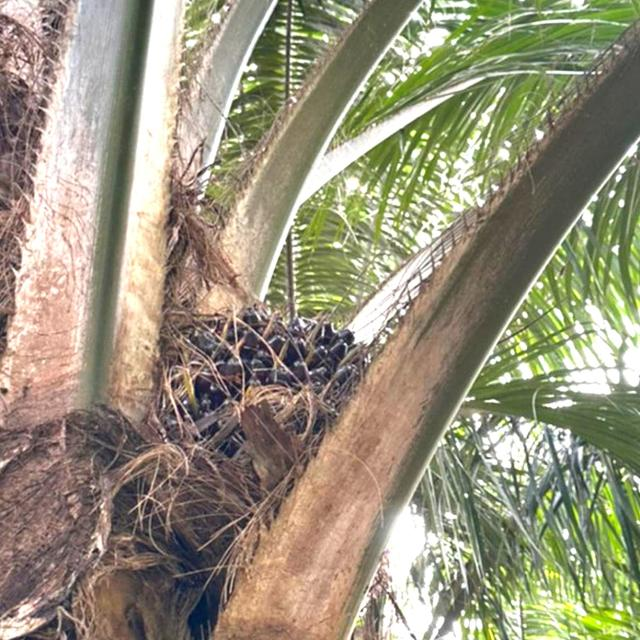almost: (163, 286, 392, 492)
